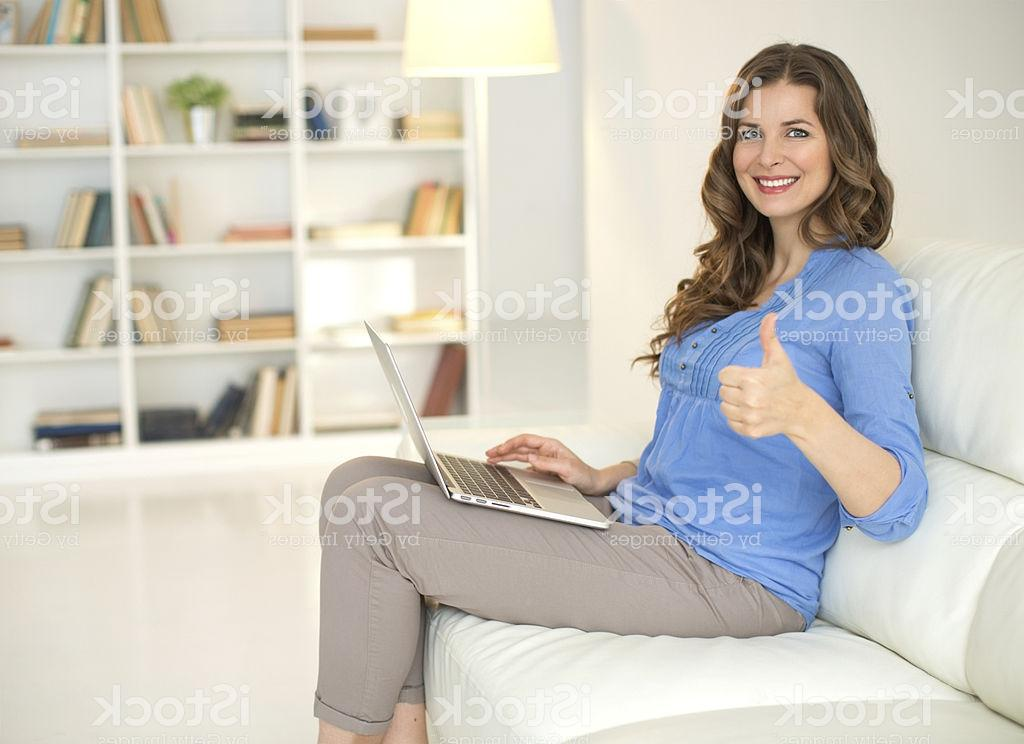thumbsup: (717, 311, 802, 440)
